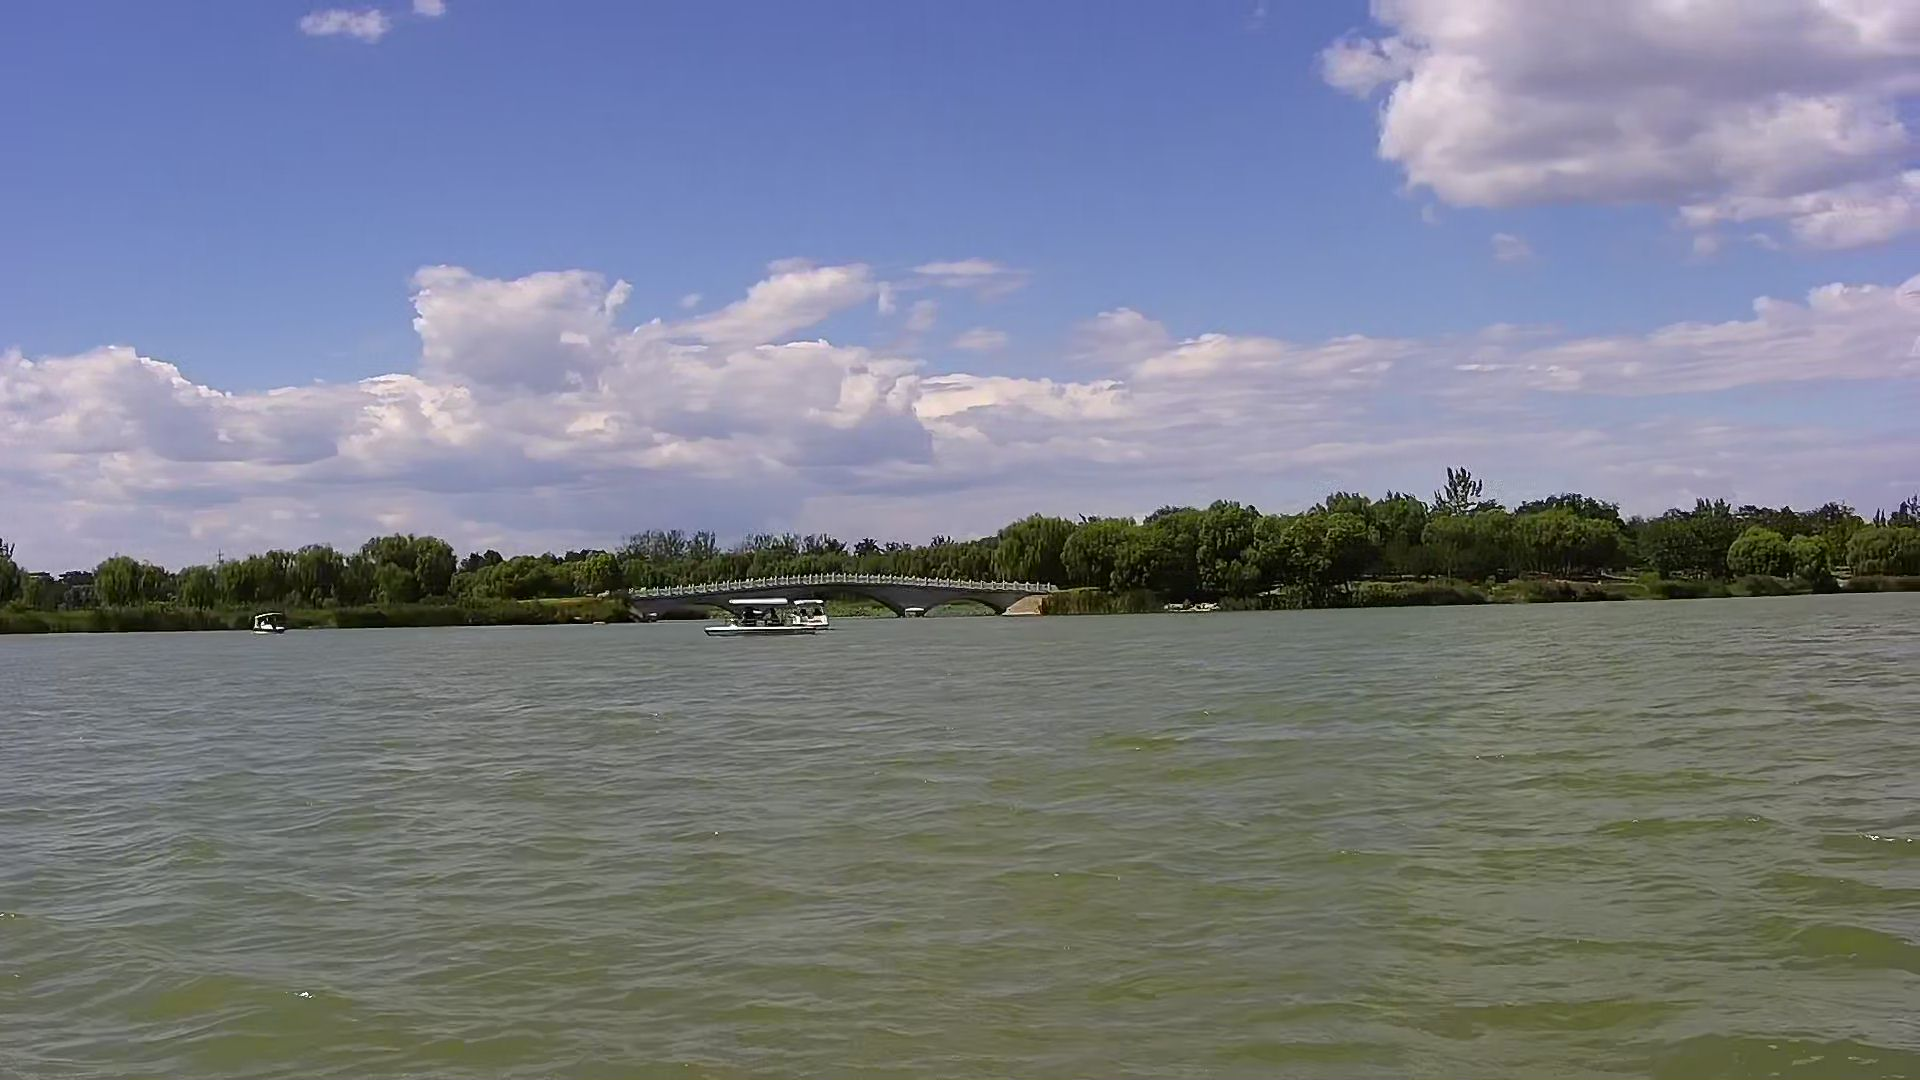boat: (702, 596, 800, 640), (787, 604, 843, 630), (249, 608, 295, 636)
bridge: (626, 570, 1059, 628)
